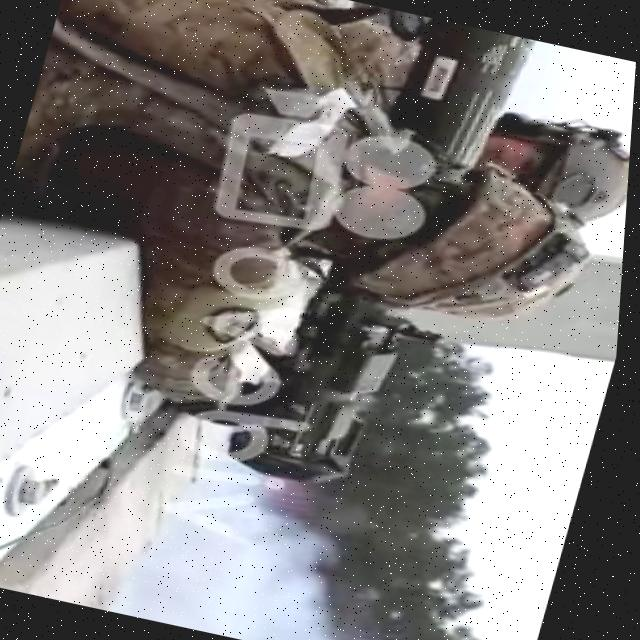rocket: (187, 0, 572, 516)
